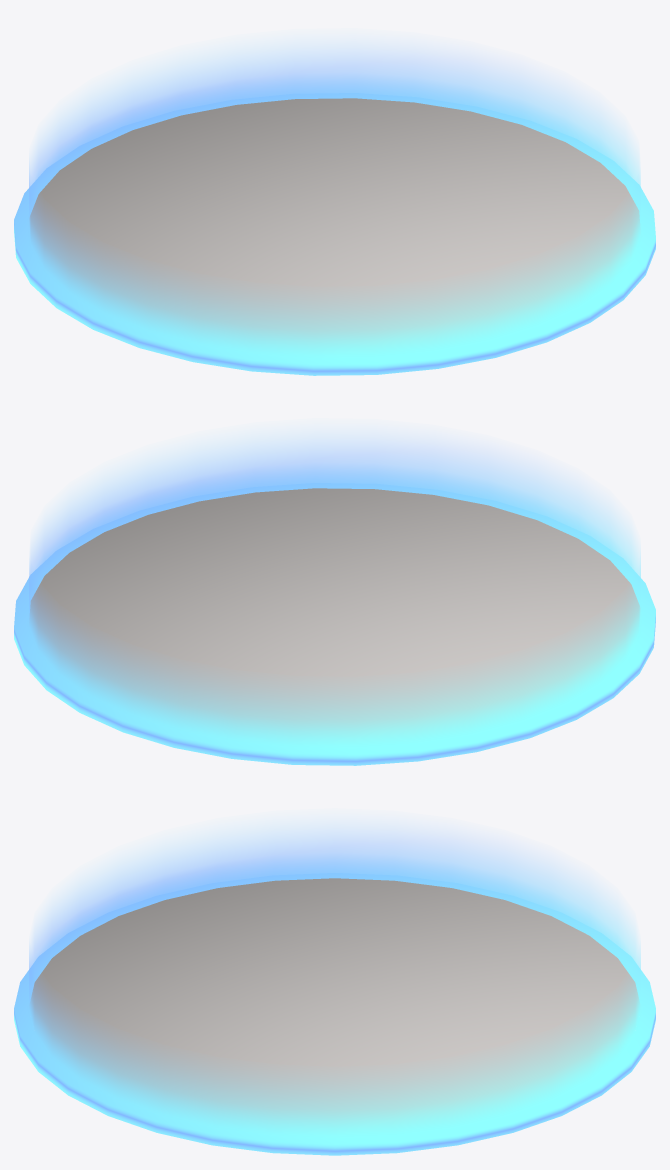
3 views of the same model, one above another, from view 1: azimuth 30°, elevation 25°; view 2: azimuth 150°, elevation 25°; view 3: azimuth 270°, elevation 25° (orthographic).
Visible parts, largest first — view 1: Cylinder; view 2: Cylinder; view 3: Cylinder.
Boxes of the visible parts, <box> form: Cylinder: <box>14,42,655,375</box>; Cylinder: <box>14,432,655,765</box>; Cylinder: <box>14,823,655,1155</box>.
Size of the model in its own units: 0.7352 by 0.1219 by 0.7352.
2 materials, 2 textured.
